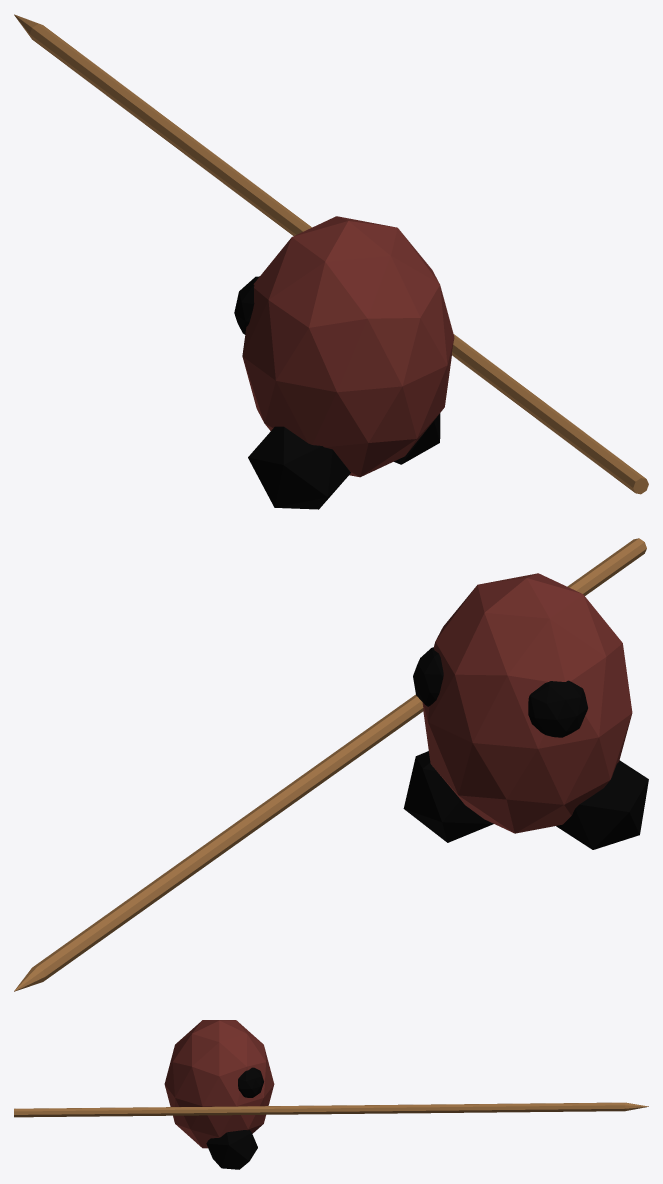
The model's file is walk.f0022.glb.
3 renders of one model, top to bottom at view 1: azimuth 30°, elevation 25°; view 2: azimuth 150°, elevation 25°; view 3: azimuth 270°, elevation 25°, orthographic. The views are drawn at different scales.
Parts seen in each view (by area): view 1: Body.001; view 2: Body.001; view 3: Body.001.
Part boxes in pixels (x1=…): Body.001: x1=14, y1=14, x2=648, y2=509; Body.001: x1=14, y1=538, x2=648, y2=991; Body.001: x1=14, y1=1020, x2=648, y2=1169.
Size of the model in its own units: 2.17 by 2.71 by 11.56.
Materials: 1 (1 with a texture image).
